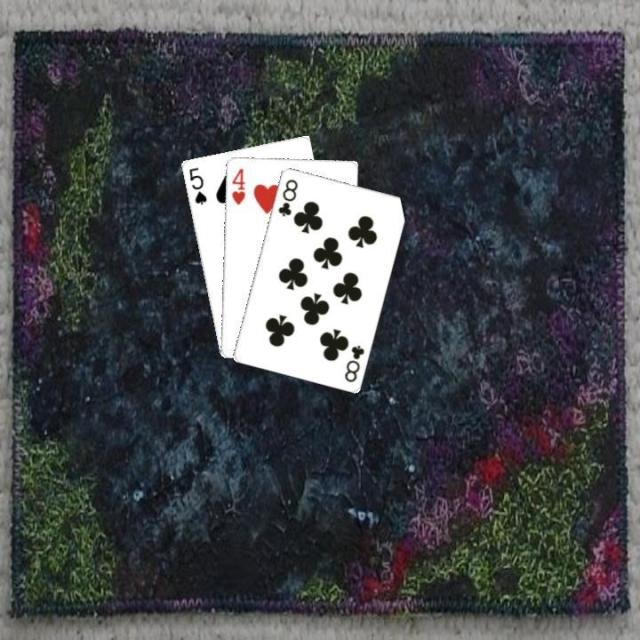4H: (228, 164, 246, 207)
5S: (185, 163, 208, 206)
8C: (274, 175, 300, 218), (341, 340, 366, 384)
